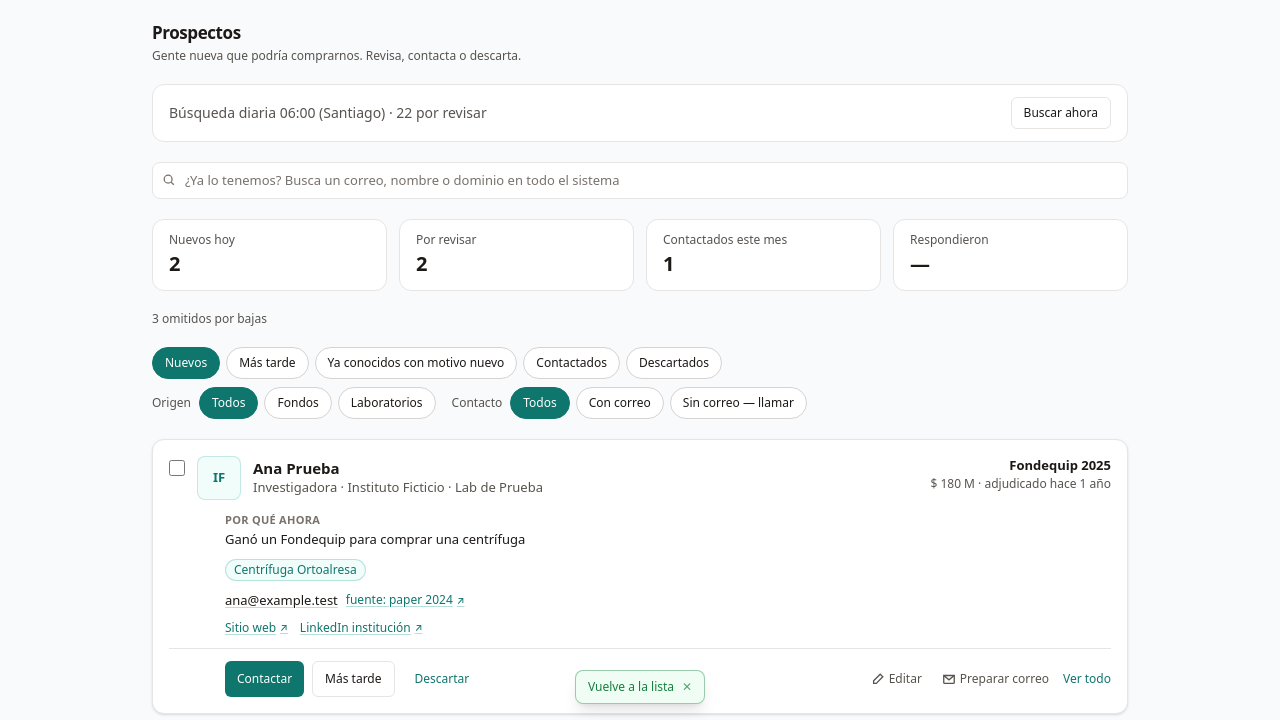
ProspectosPage › Contactar con institución ambigua pide elegir y reintenta
The width and height of the screenshot is (1280, 720).
Click the button "Contactar". click: (265, 679)
box: [225, 661, 304, 697]
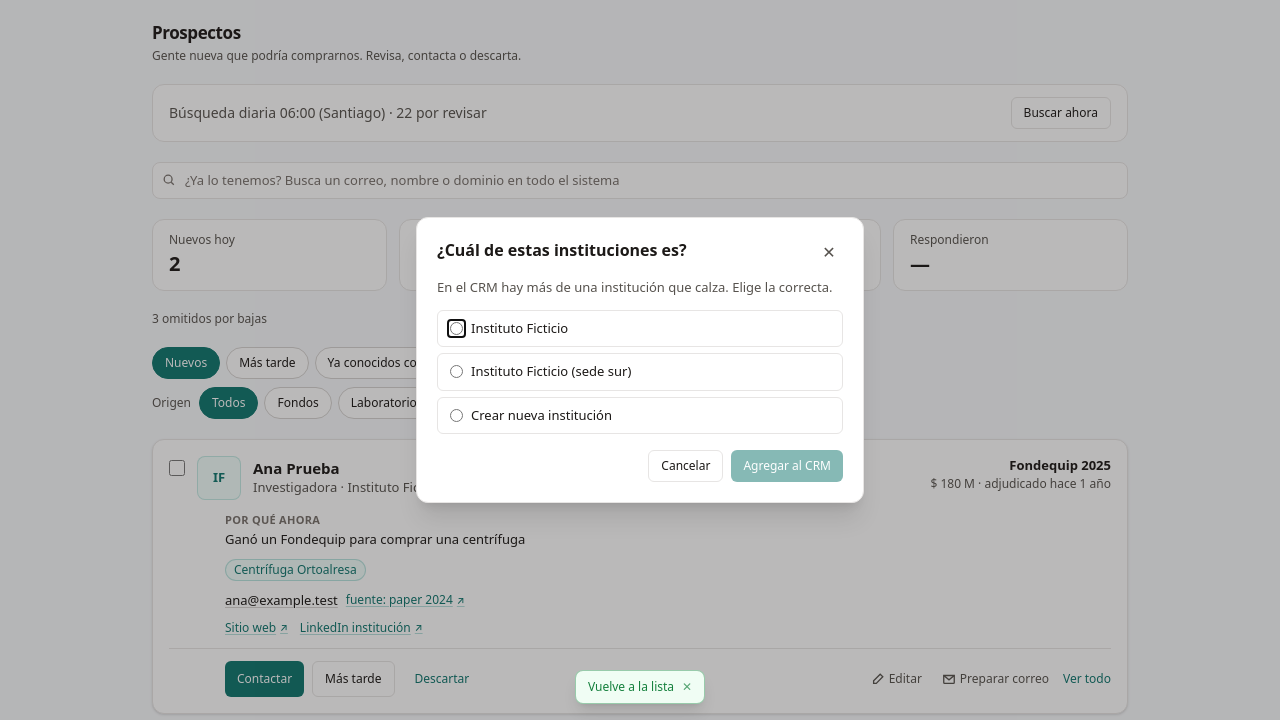
Click the radio button labelled "Instituto Ficticio (sede sur)". click: (456, 372)
box: [450, 365, 463, 378]
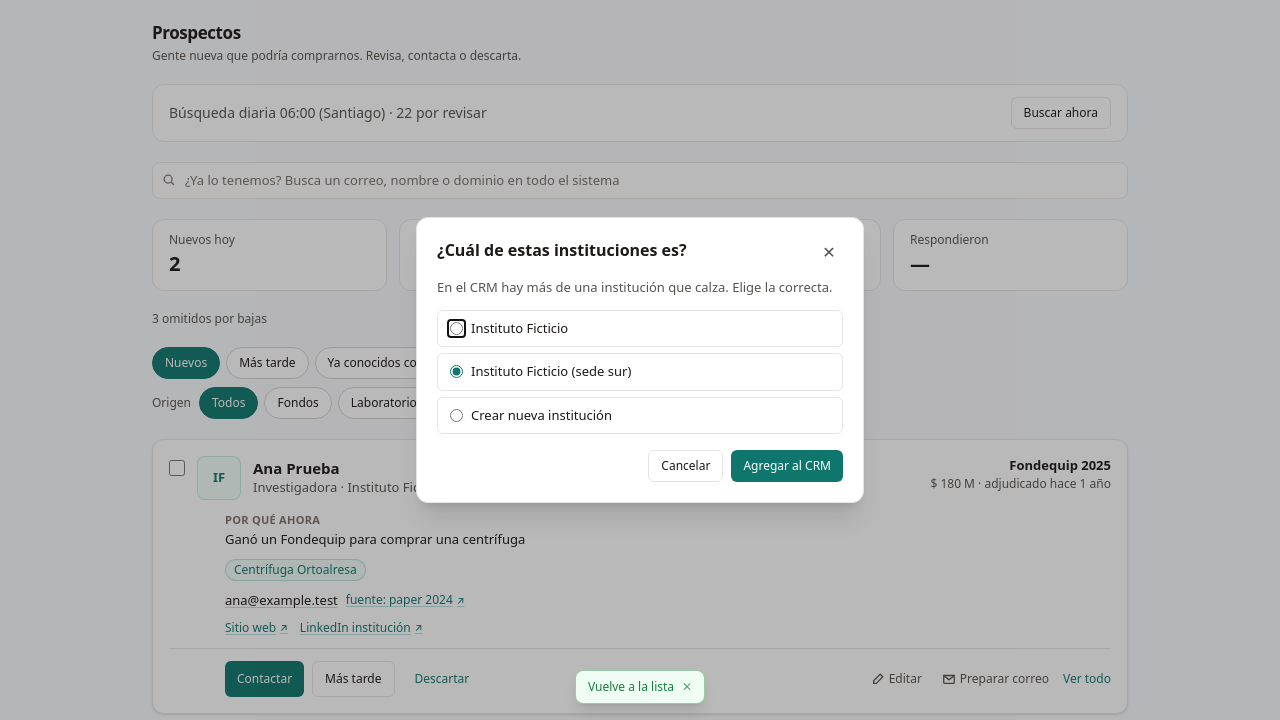
Click the button "Agregar al CRM". click: (787, 466)
box: [731, 450, 843, 482]
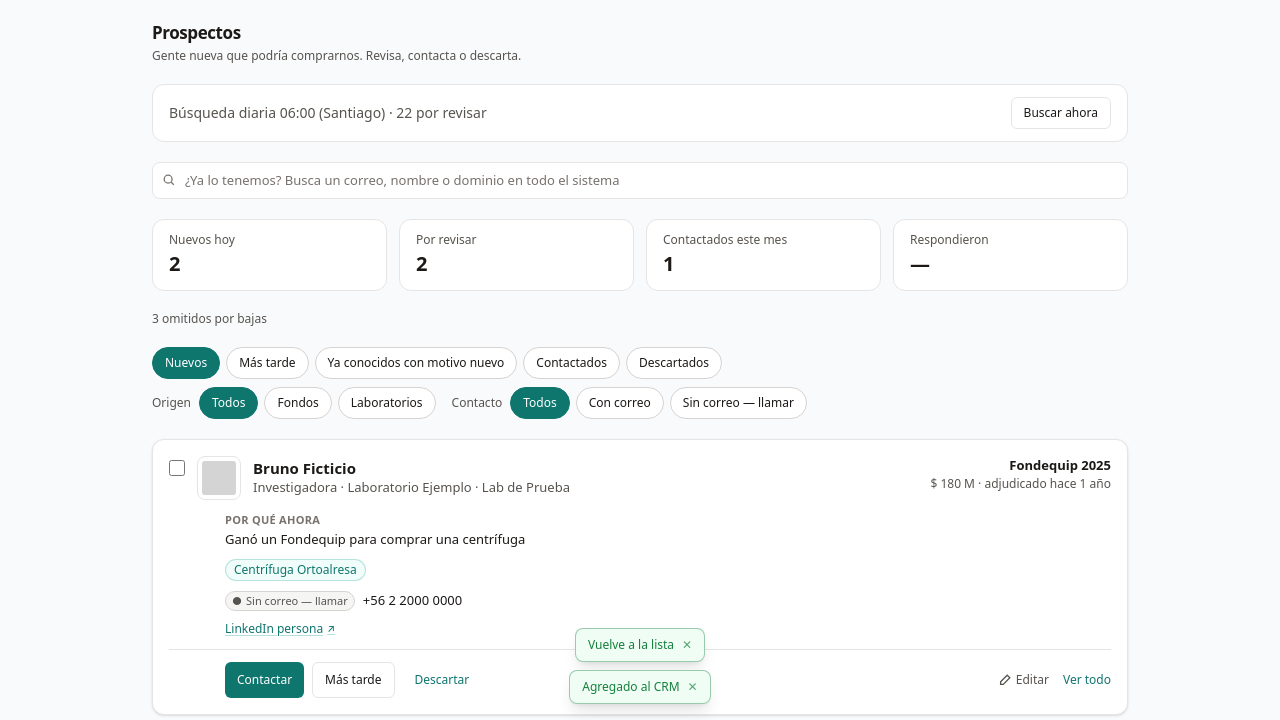
Expected: the text "Agregado al CRM" is shown, [582, 679, 680, 695]
